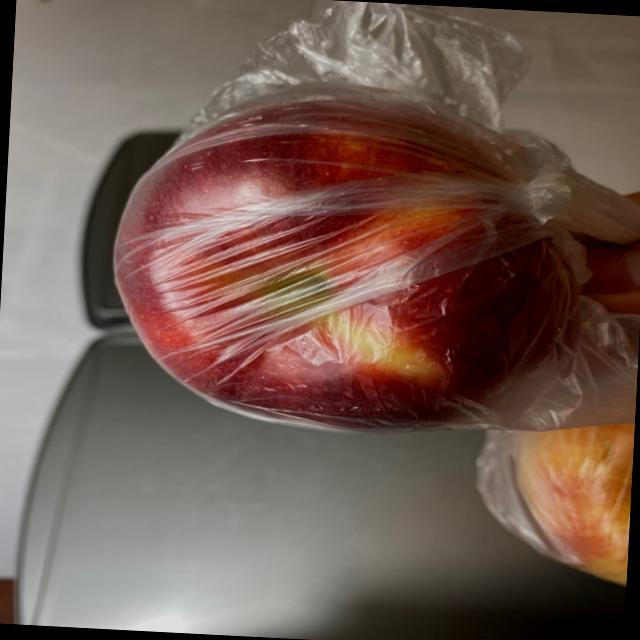apple: (98, 50, 640, 588)
